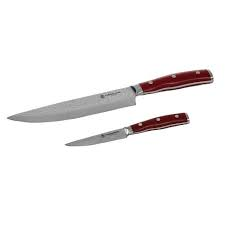knife: (7, 64, 216, 126), (60, 112, 202, 153)
